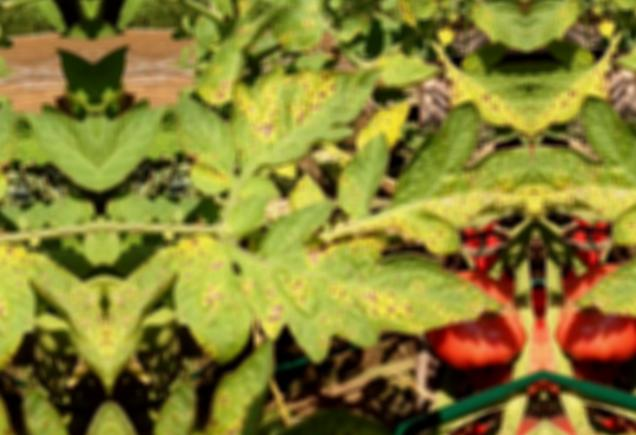Tomato Septoria leaf spot: (164, 179, 497, 366), (371, 107, 538, 267), (138, 366, 448, 435), (226, 56, 382, 165), (441, 17, 533, 173), (102, 250, 178, 435), (382, 0, 445, 32)
